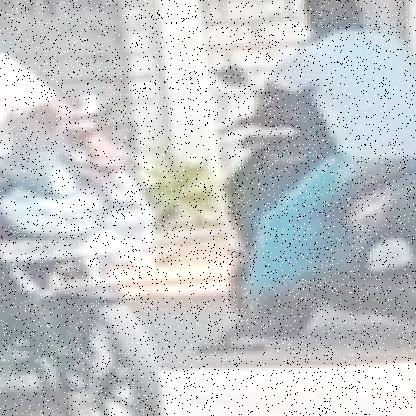motorcycle: (0, 144, 205, 416)
